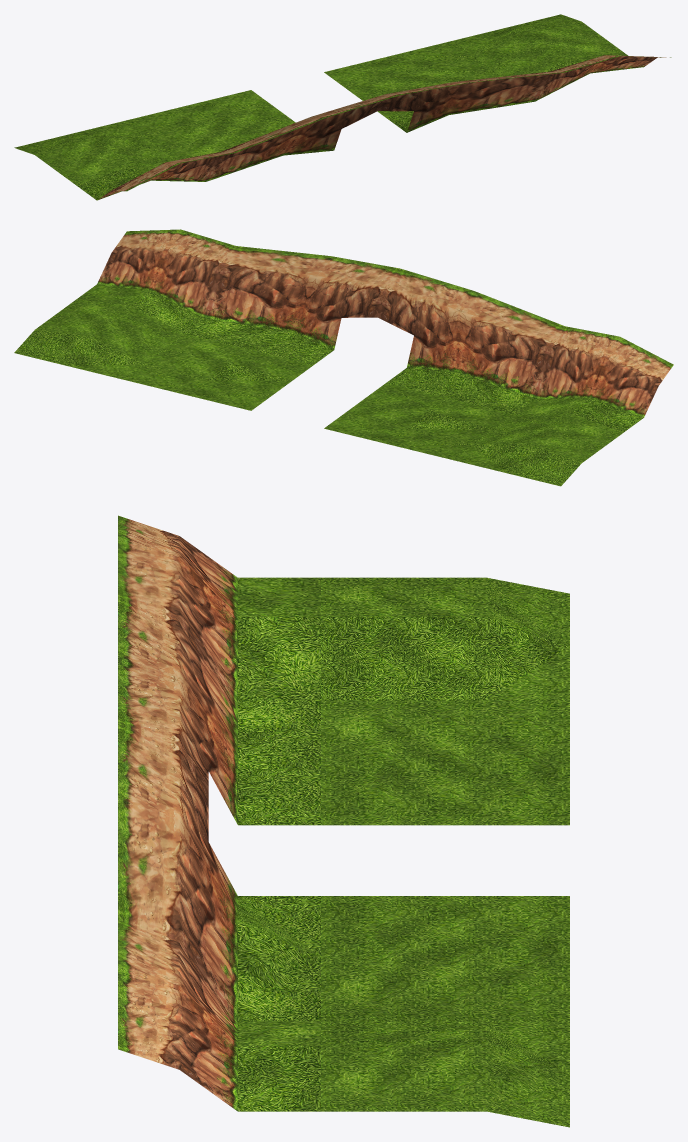
Rendered from tunnel_wall.fbx.
3 renders of one model, top to bottom at view 1: azimuth 30°, elevation 25°; view 2: azimuth 150°, elevation 25°; view 3: azimuth 270°, elevation 25°, orthographic. The views are drawn at different scales.
Parts seen in each view (by area): view 1: tunnel_hill; view 2: tunnel_hill; view 3: tunnel_hill.
Part boxes in pixels (box(x1,y1,x2,y2)): tunnel_hill: box(14, 14, 671, 200); tunnel_hill: box(14, 229, 673, 486); tunnel_hill: box(118, 515, 569, 1127).
Size of the model in its own units: 18842 by 2255 by 6740.
